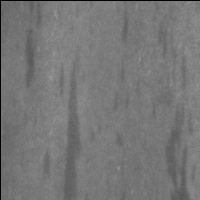inclusion: (168, 39, 193, 200), (57, 63, 84, 200), (19, 2, 45, 90), (149, 14, 173, 63), (117, 1, 133, 46), (110, 87, 132, 115), (38, 144, 53, 185), (113, 128, 129, 151), (117, 56, 130, 83)
